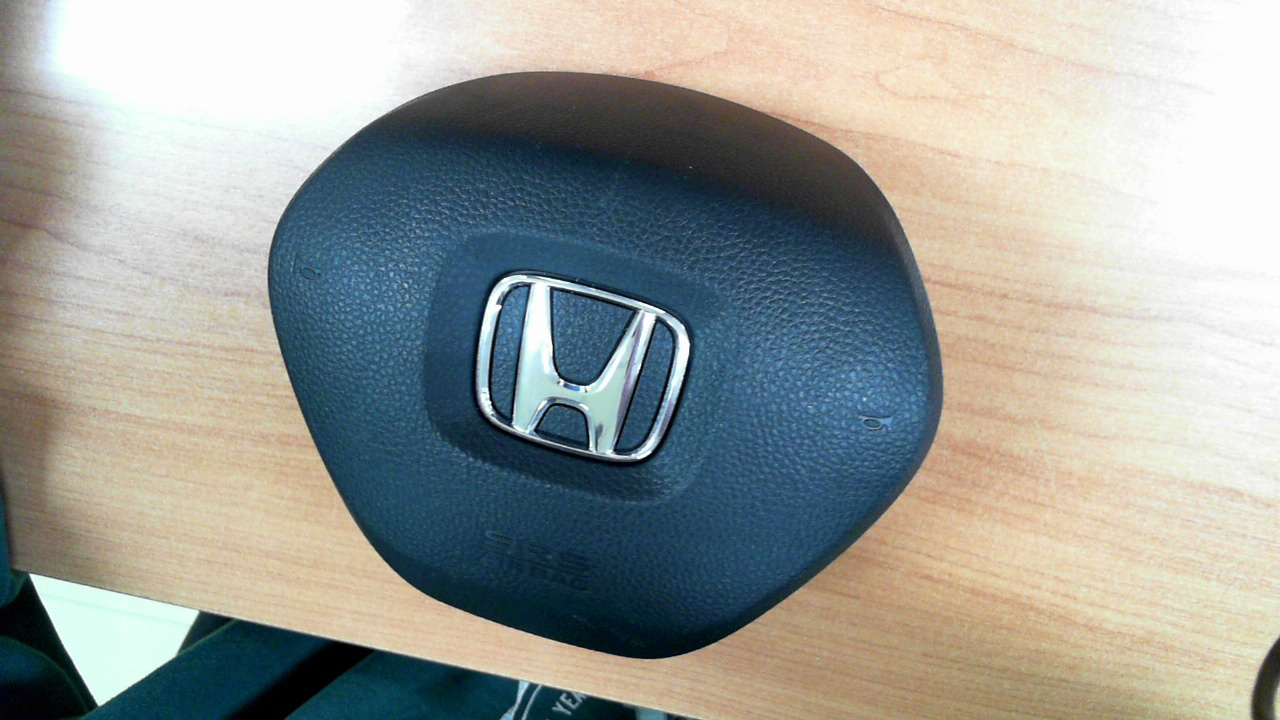Airbag: (267, 69, 945, 661)
Honda: (475, 274, 691, 461)
